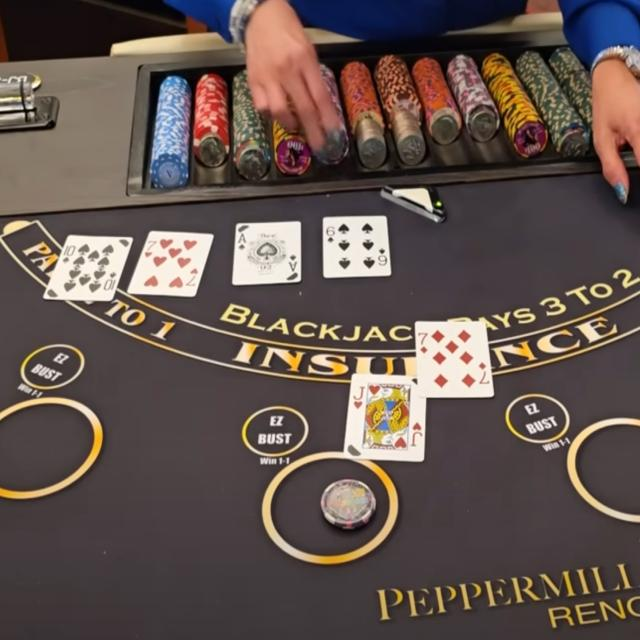10: (63, 242, 76, 257)
6: (324, 223, 336, 237)
7: (416, 330, 429, 346), (146, 240, 158, 251)
A: (236, 232, 248, 244)
J: (352, 382, 366, 401)
